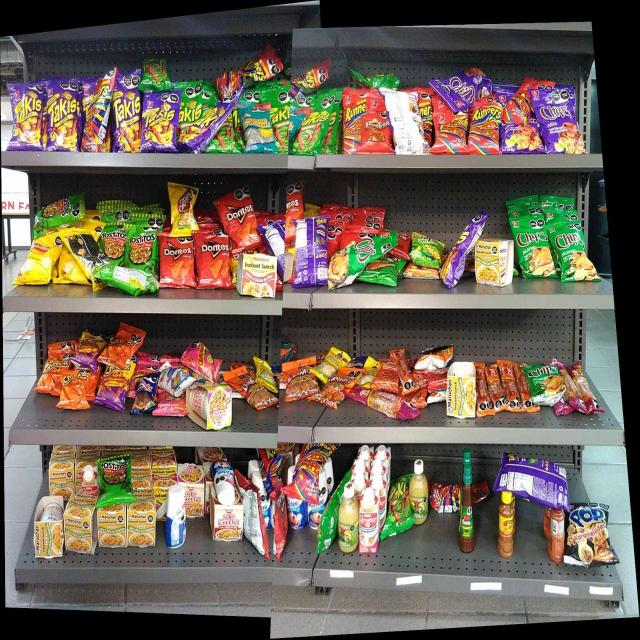bitzEnchilado90: (378, 358, 399, 391)
bitzEnchilado95: (478, 362, 520, 418)
bitzHabanero: (561, 358, 603, 419), (358, 392, 417, 420)
bokadosCacahuates: (133, 376, 154, 416)
botaneraChilito: (499, 494, 514, 558)
cheetosFlaminHot: (100, 371, 126, 412), (80, 332, 96, 368)
cheetosOriginal: (106, 330, 136, 366), (62, 371, 89, 410), (41, 353, 60, 394)
chipsFuego: (544, 90, 582, 152), (440, 69, 479, 102), (504, 124, 542, 155)
chipsJalapeno: (554, 220, 588, 281), (517, 215, 547, 277), (527, 365, 557, 404)
chipsPapatinas: (411, 231, 440, 269)
churrumais: (190, 340, 219, 378), (157, 400, 187, 418)
delPrimoSalsa: (338, 482, 358, 553), (410, 457, 429, 525)
doritosNacho: (160, 240, 196, 290), (199, 234, 230, 288), (218, 194, 256, 230), (272, 491, 286, 558), (285, 185, 304, 218)
fritosLimon: (169, 182, 198, 229)
leoCacahuates: (160, 361, 188, 395)
leoMix: (234, 368, 256, 414), (321, 376, 351, 406), (284, 363, 307, 399)
maruchanPollo: (34, 496, 63, 558), (477, 239, 513, 285), (67, 497, 95, 555), (448, 363, 475, 419), (129, 505, 156, 548), (98, 507, 125, 548)
maruchanRes: (240, 253, 274, 299)
nestleCarnation: (360, 490, 377, 554), (81, 470, 97, 495)
nestleLechera: (168, 489, 188, 548), (210, 459, 236, 502), (288, 502, 306, 530)
nissinCamaron: (190, 385, 232, 431)
nissinRes: (213, 503, 243, 542)
popKarameladas: (572, 502, 614, 570)
productoAtras: (515, 462, 566, 502), (297, 223, 327, 285), (390, 90, 418, 154), (331, 244, 360, 288), (246, 479, 262, 556), (102, 267, 151, 292), (63, 230, 98, 263)
rancheritos: (362, 116, 388, 154)
rufflesQueso: (371, 257, 403, 289)
runners: (82, 82, 110, 151), (298, 443, 326, 500), (217, 60, 278, 84), (472, 105, 500, 153), (435, 113, 466, 153), (342, 92, 360, 148), (178, 123, 212, 150), (431, 480, 457, 513), (293, 68, 330, 90), (504, 96, 531, 122), (420, 95, 433, 140)
sabritasOriginal: (29, 242, 51, 283)
salsaBufalo: (460, 451, 475, 552)
semillasCalabaza: (258, 358, 276, 388), (319, 350, 339, 372)
semillasGirasol: (244, 104, 273, 150)
tajinDulce: (550, 509, 562, 562)
takisFuego: (48, 83, 79, 151), (144, 94, 176, 151), (14, 85, 42, 148), (444, 225, 472, 288), (118, 77, 138, 152)
takisOriginal: (298, 111, 332, 154), (390, 480, 409, 534), (273, 94, 290, 147), (144, 58, 169, 89), (183, 83, 200, 120)
tostitos: (99, 459, 132, 501), (34, 196, 83, 224), (129, 227, 154, 268), (103, 228, 126, 262)
